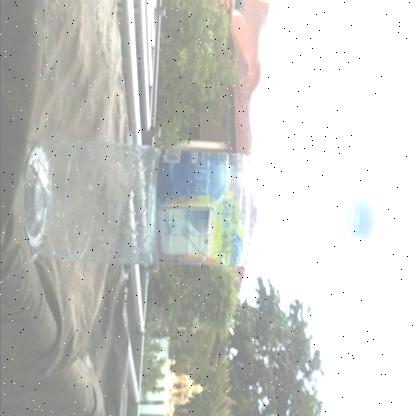Plastic Bottle: (13, 136, 385, 278)
